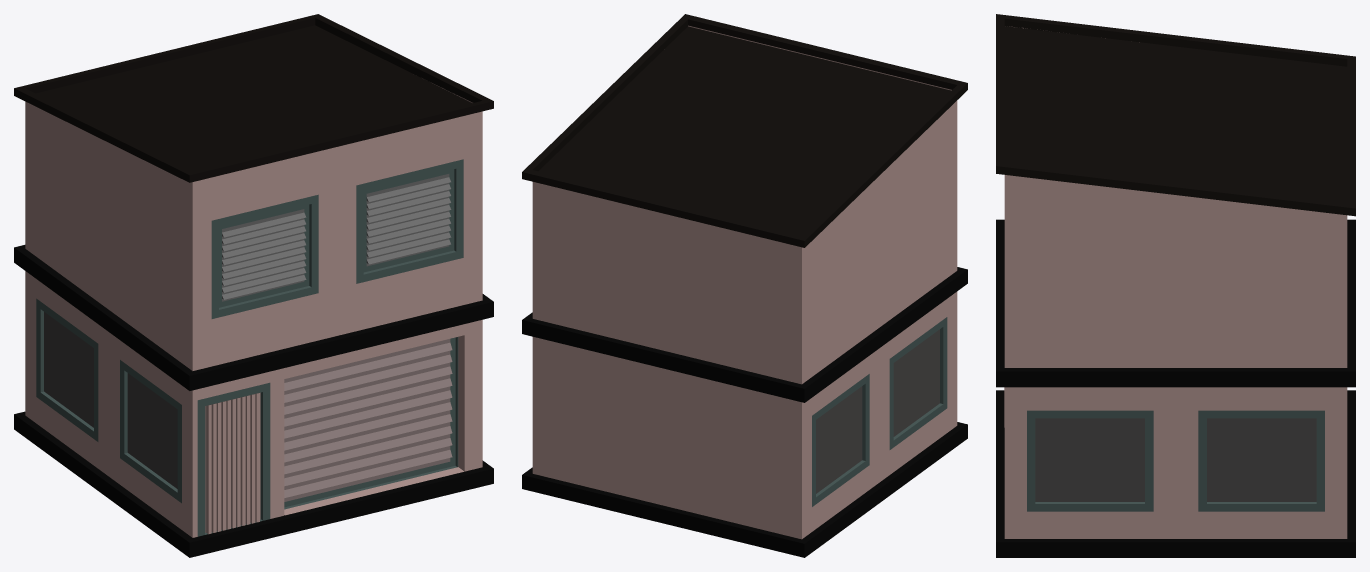
File: newshop.fbx
The picture shows the model from 3 angles, left to right: view 1: azimuth 30°, elevation 25°; view 2: azimuth 150°, elevation 25°; view 3: azimuth 270°, elevation 25°; orthographic projection. The views are drawn at different scales.
Visible parts, largest first — view 1: building_001; view 2: building_001; view 3: building_001.
Boxes of the visible parts, box(x1,y1,x2,y2) form: building_001: box(14, 14, 493, 557); building_001: box(522, 14, 967, 557); building_001: box(996, 14, 1355, 557).
Size of the model in its own units: 420 by 505 by 420.
